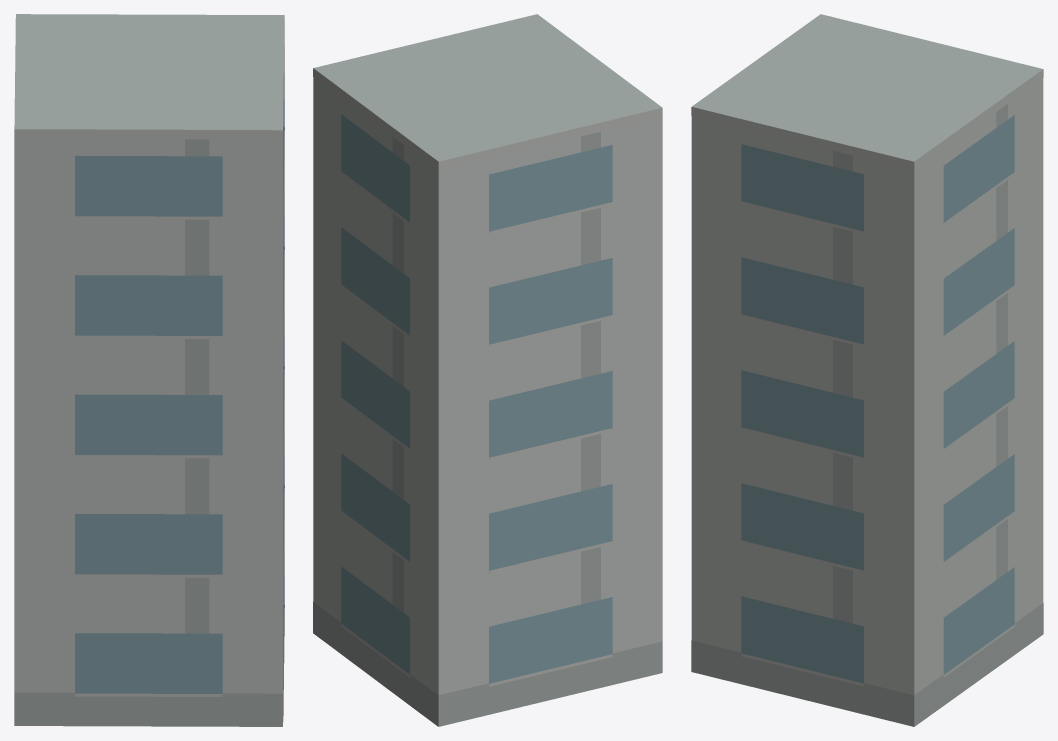
Rendered from survey-upis-32807156.glb.
The picture shows the model from 3 angles, left to right: view 1: azimuth 30°, elevation 25°; view 2: azimuth 150°, elevation 25°; view 3: azimuth 270°, elevation 25°; orthographic projection. The views are drawn at different scales.
Parts seen in each view (by area): view 1: survey-upis-32807156.tmp; view 2: survey-upis-32807156.tmp; view 3: survey-upis-32807156.tmp.
Boxes of the visible parts, x1,y1,x2,y2 form: survey-upis-32807156.tmp: (14, 14, 284, 726); survey-upis-32807156.tmp: (313, 14, 662, 726); survey-upis-32807156.tmp: (691, 14, 1043, 726).
Size of the model in its own units: 8.55 by 15.25 by 8.62.
